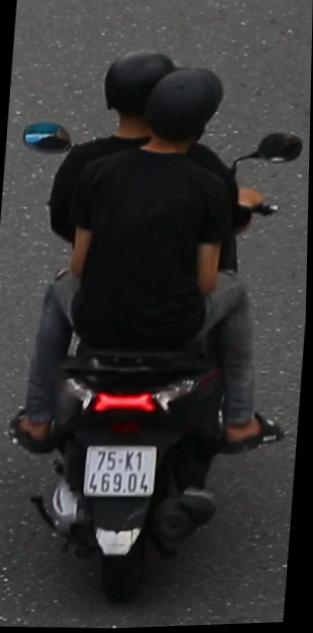LP: (80, 440, 165, 512)
helmet: (142, 64, 228, 151), (94, 38, 172, 120)
